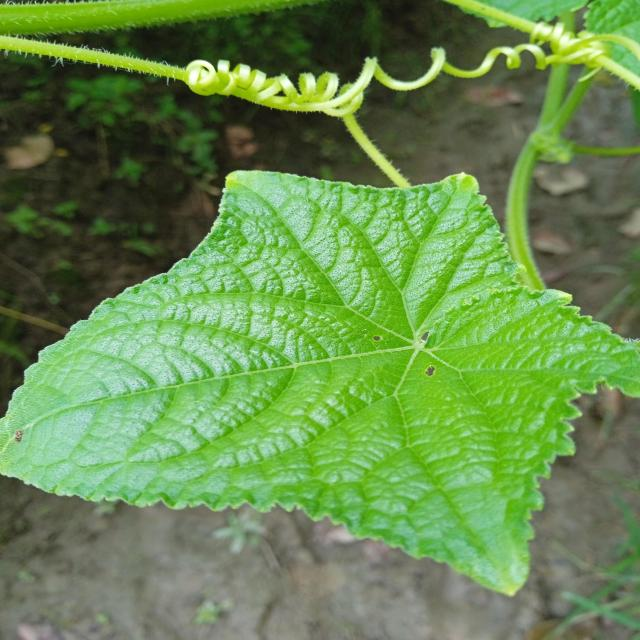cucumber_healthy: (0, 158, 640, 606)
